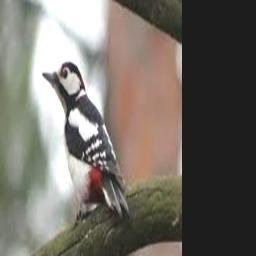Woodpecker: (41, 62, 129, 226)
